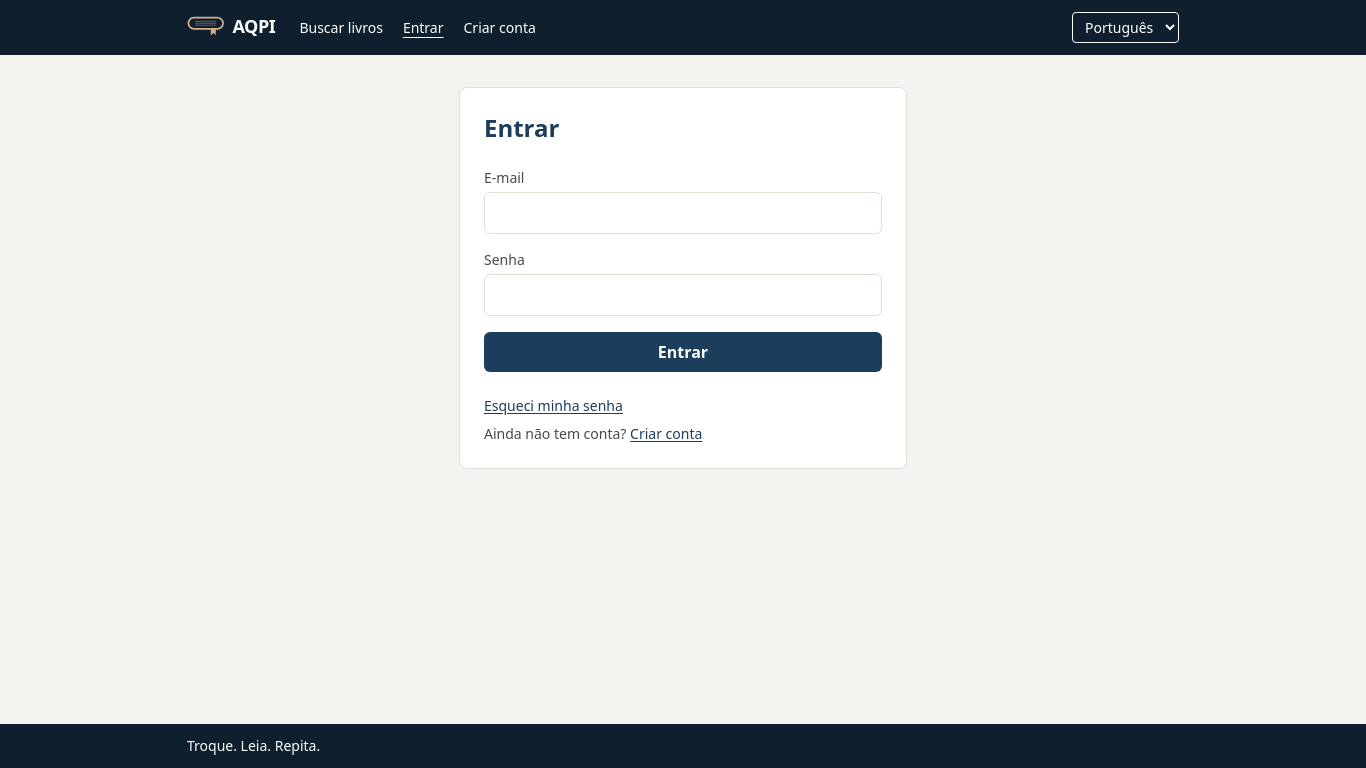
Test: auth flow › shows the translated error for wrong credentials
Type "ana@example.test" into the field labelled "E-mail" at point(683, 213), box [484,192,882,234]
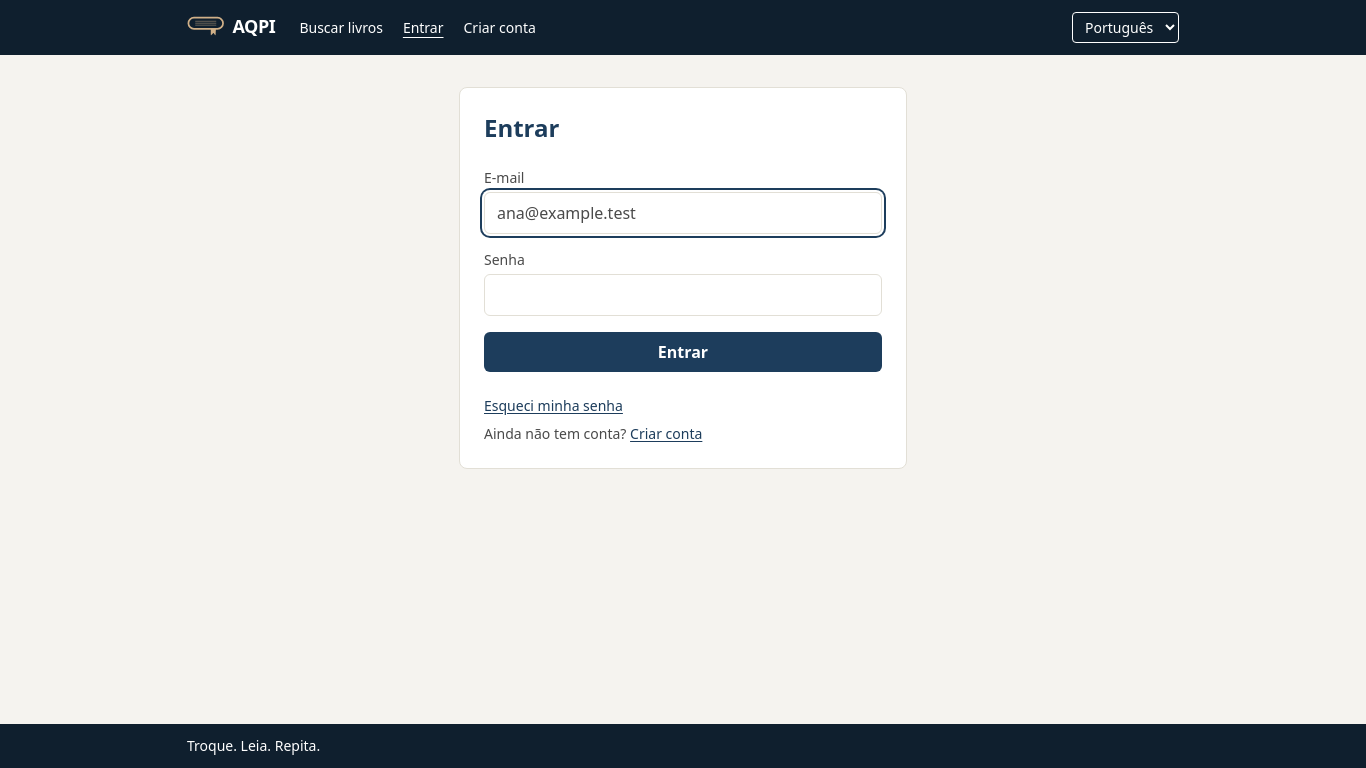
Type "wrong" into the password field labelled "Senha" at point(683, 295), box [484,274,882,316]
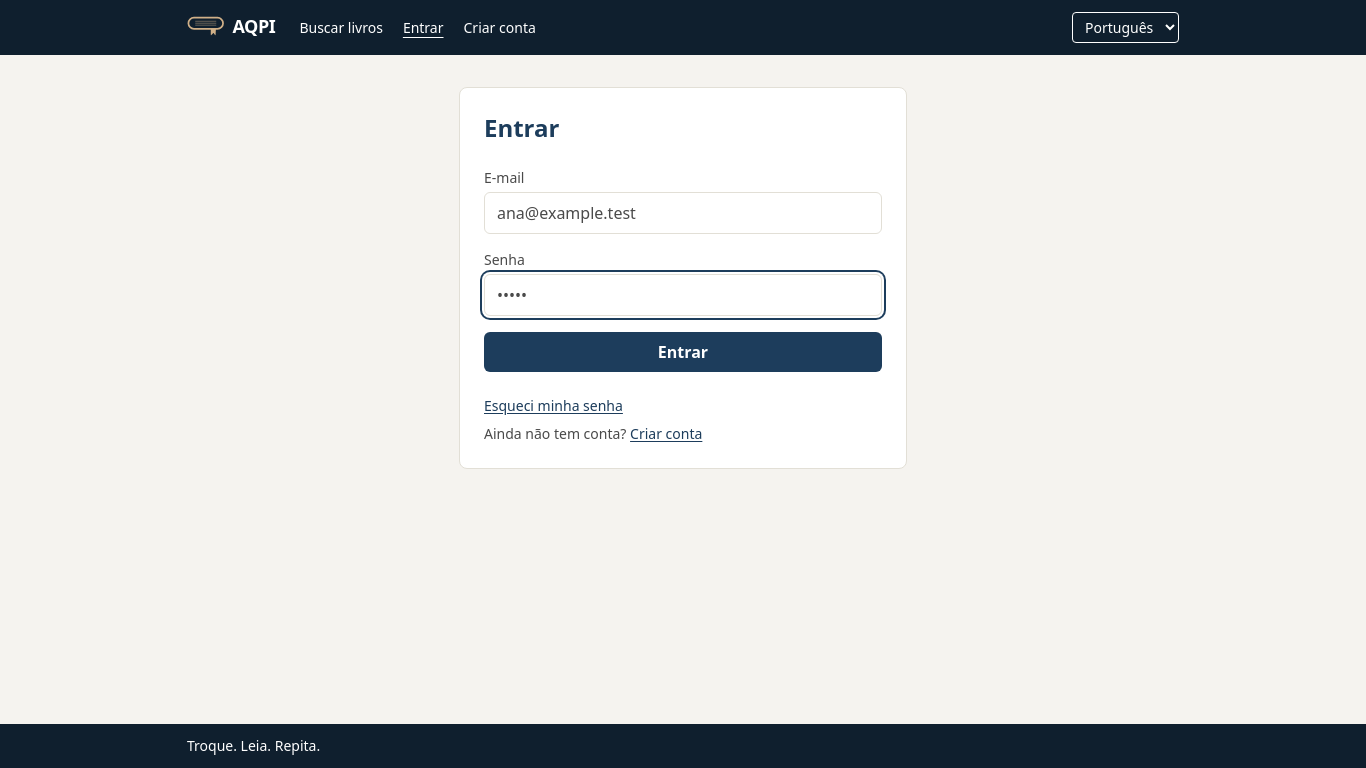
Click the button "Entrar" at point(683, 352), box [484,332,882,372]
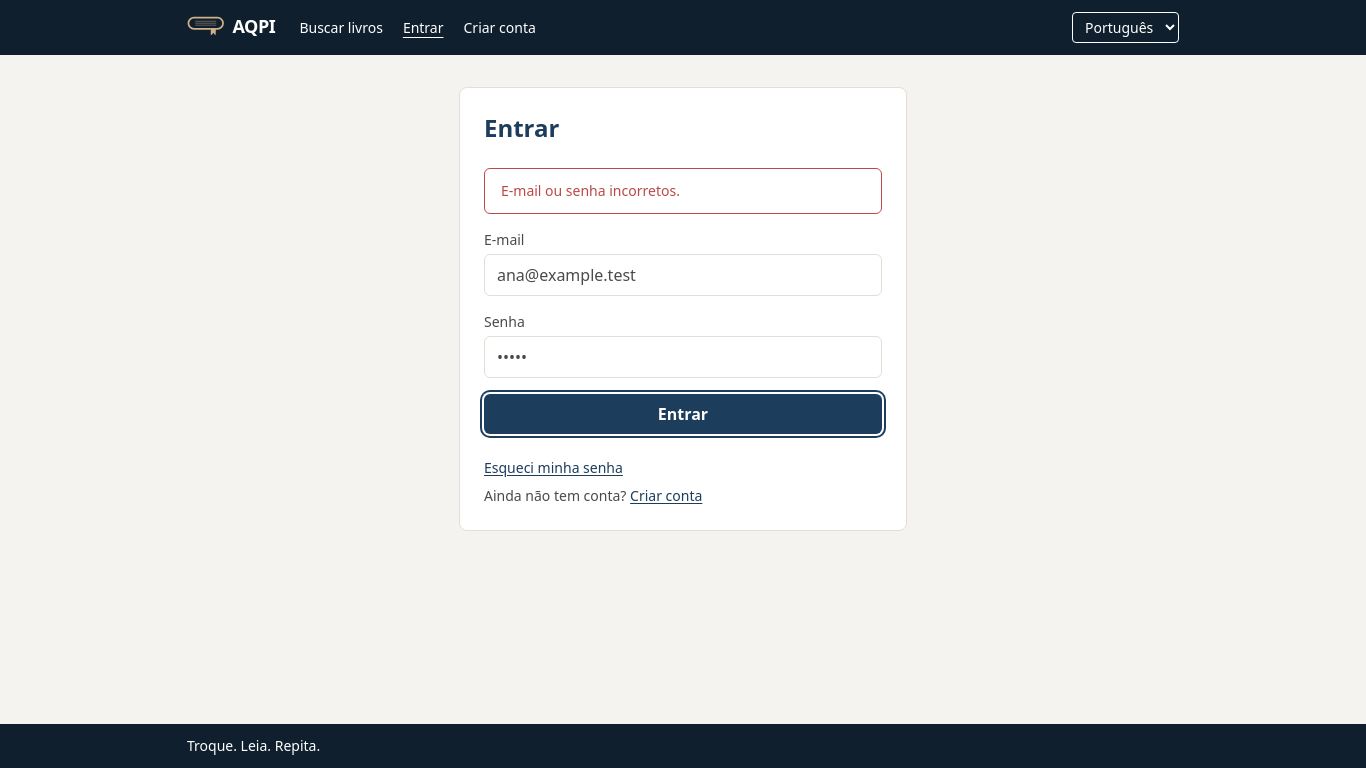
Result: the message reads "E-mail ou senha incorretos." at [501,181,680,200]
